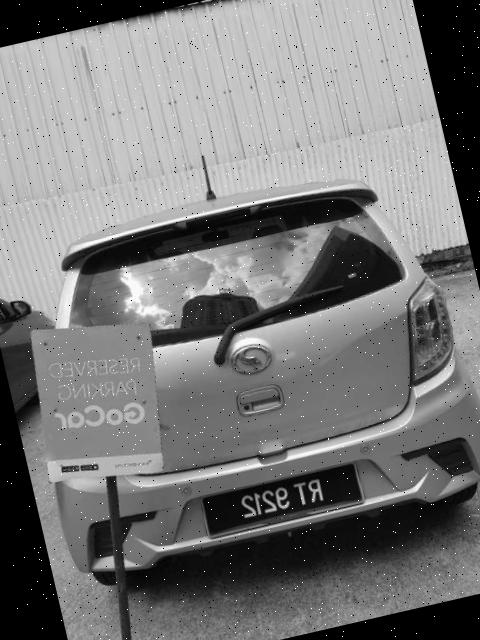License_Plate: (199, 461, 366, 540)
car: (1, 146, 480, 597), (1, 280, 72, 414)
